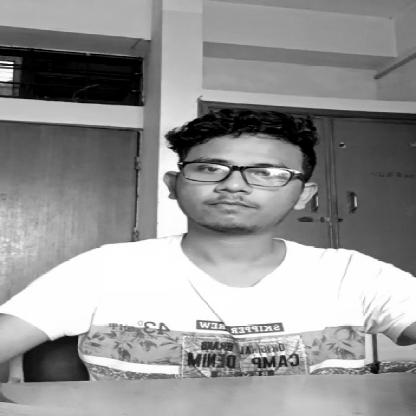Normal: (173, 140, 306, 238)
